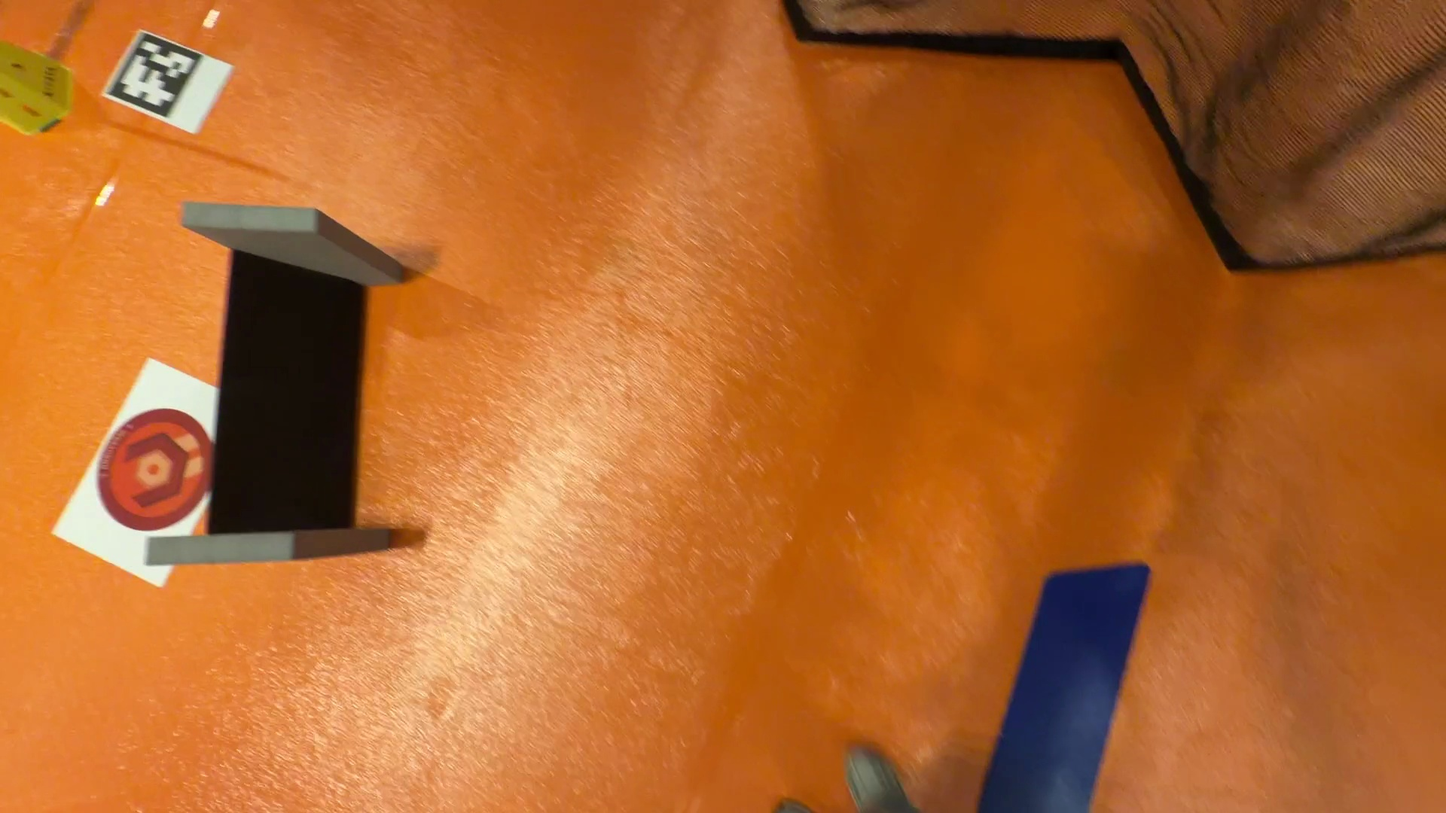landing_pad: (99, 405, 215, 530)
